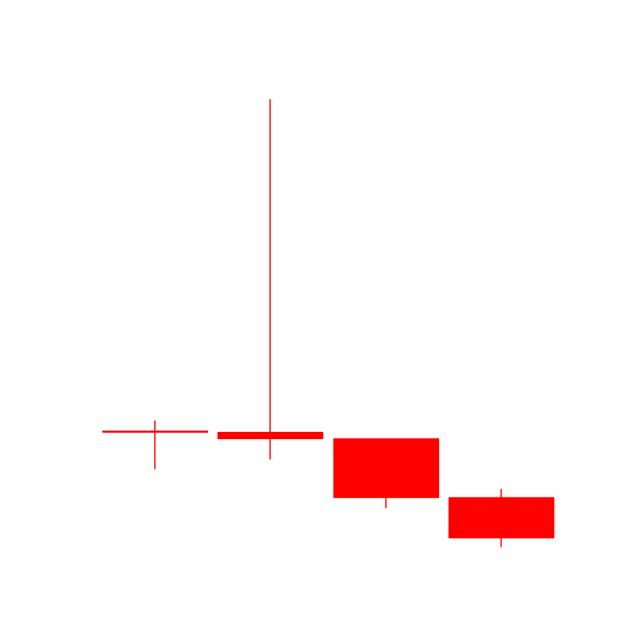Marubozu: (328, 436, 444, 509)
